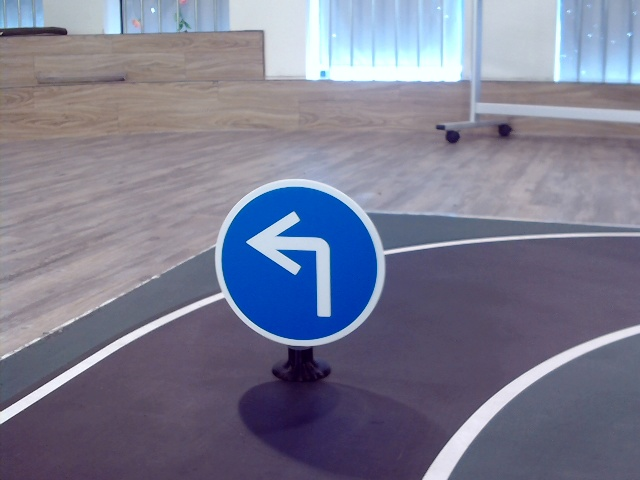turn_left: (246, 210, 349, 318)
